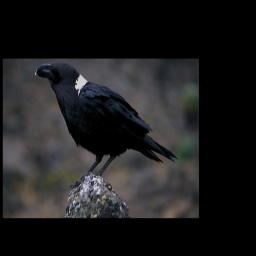Crow: (34, 62, 178, 191)
